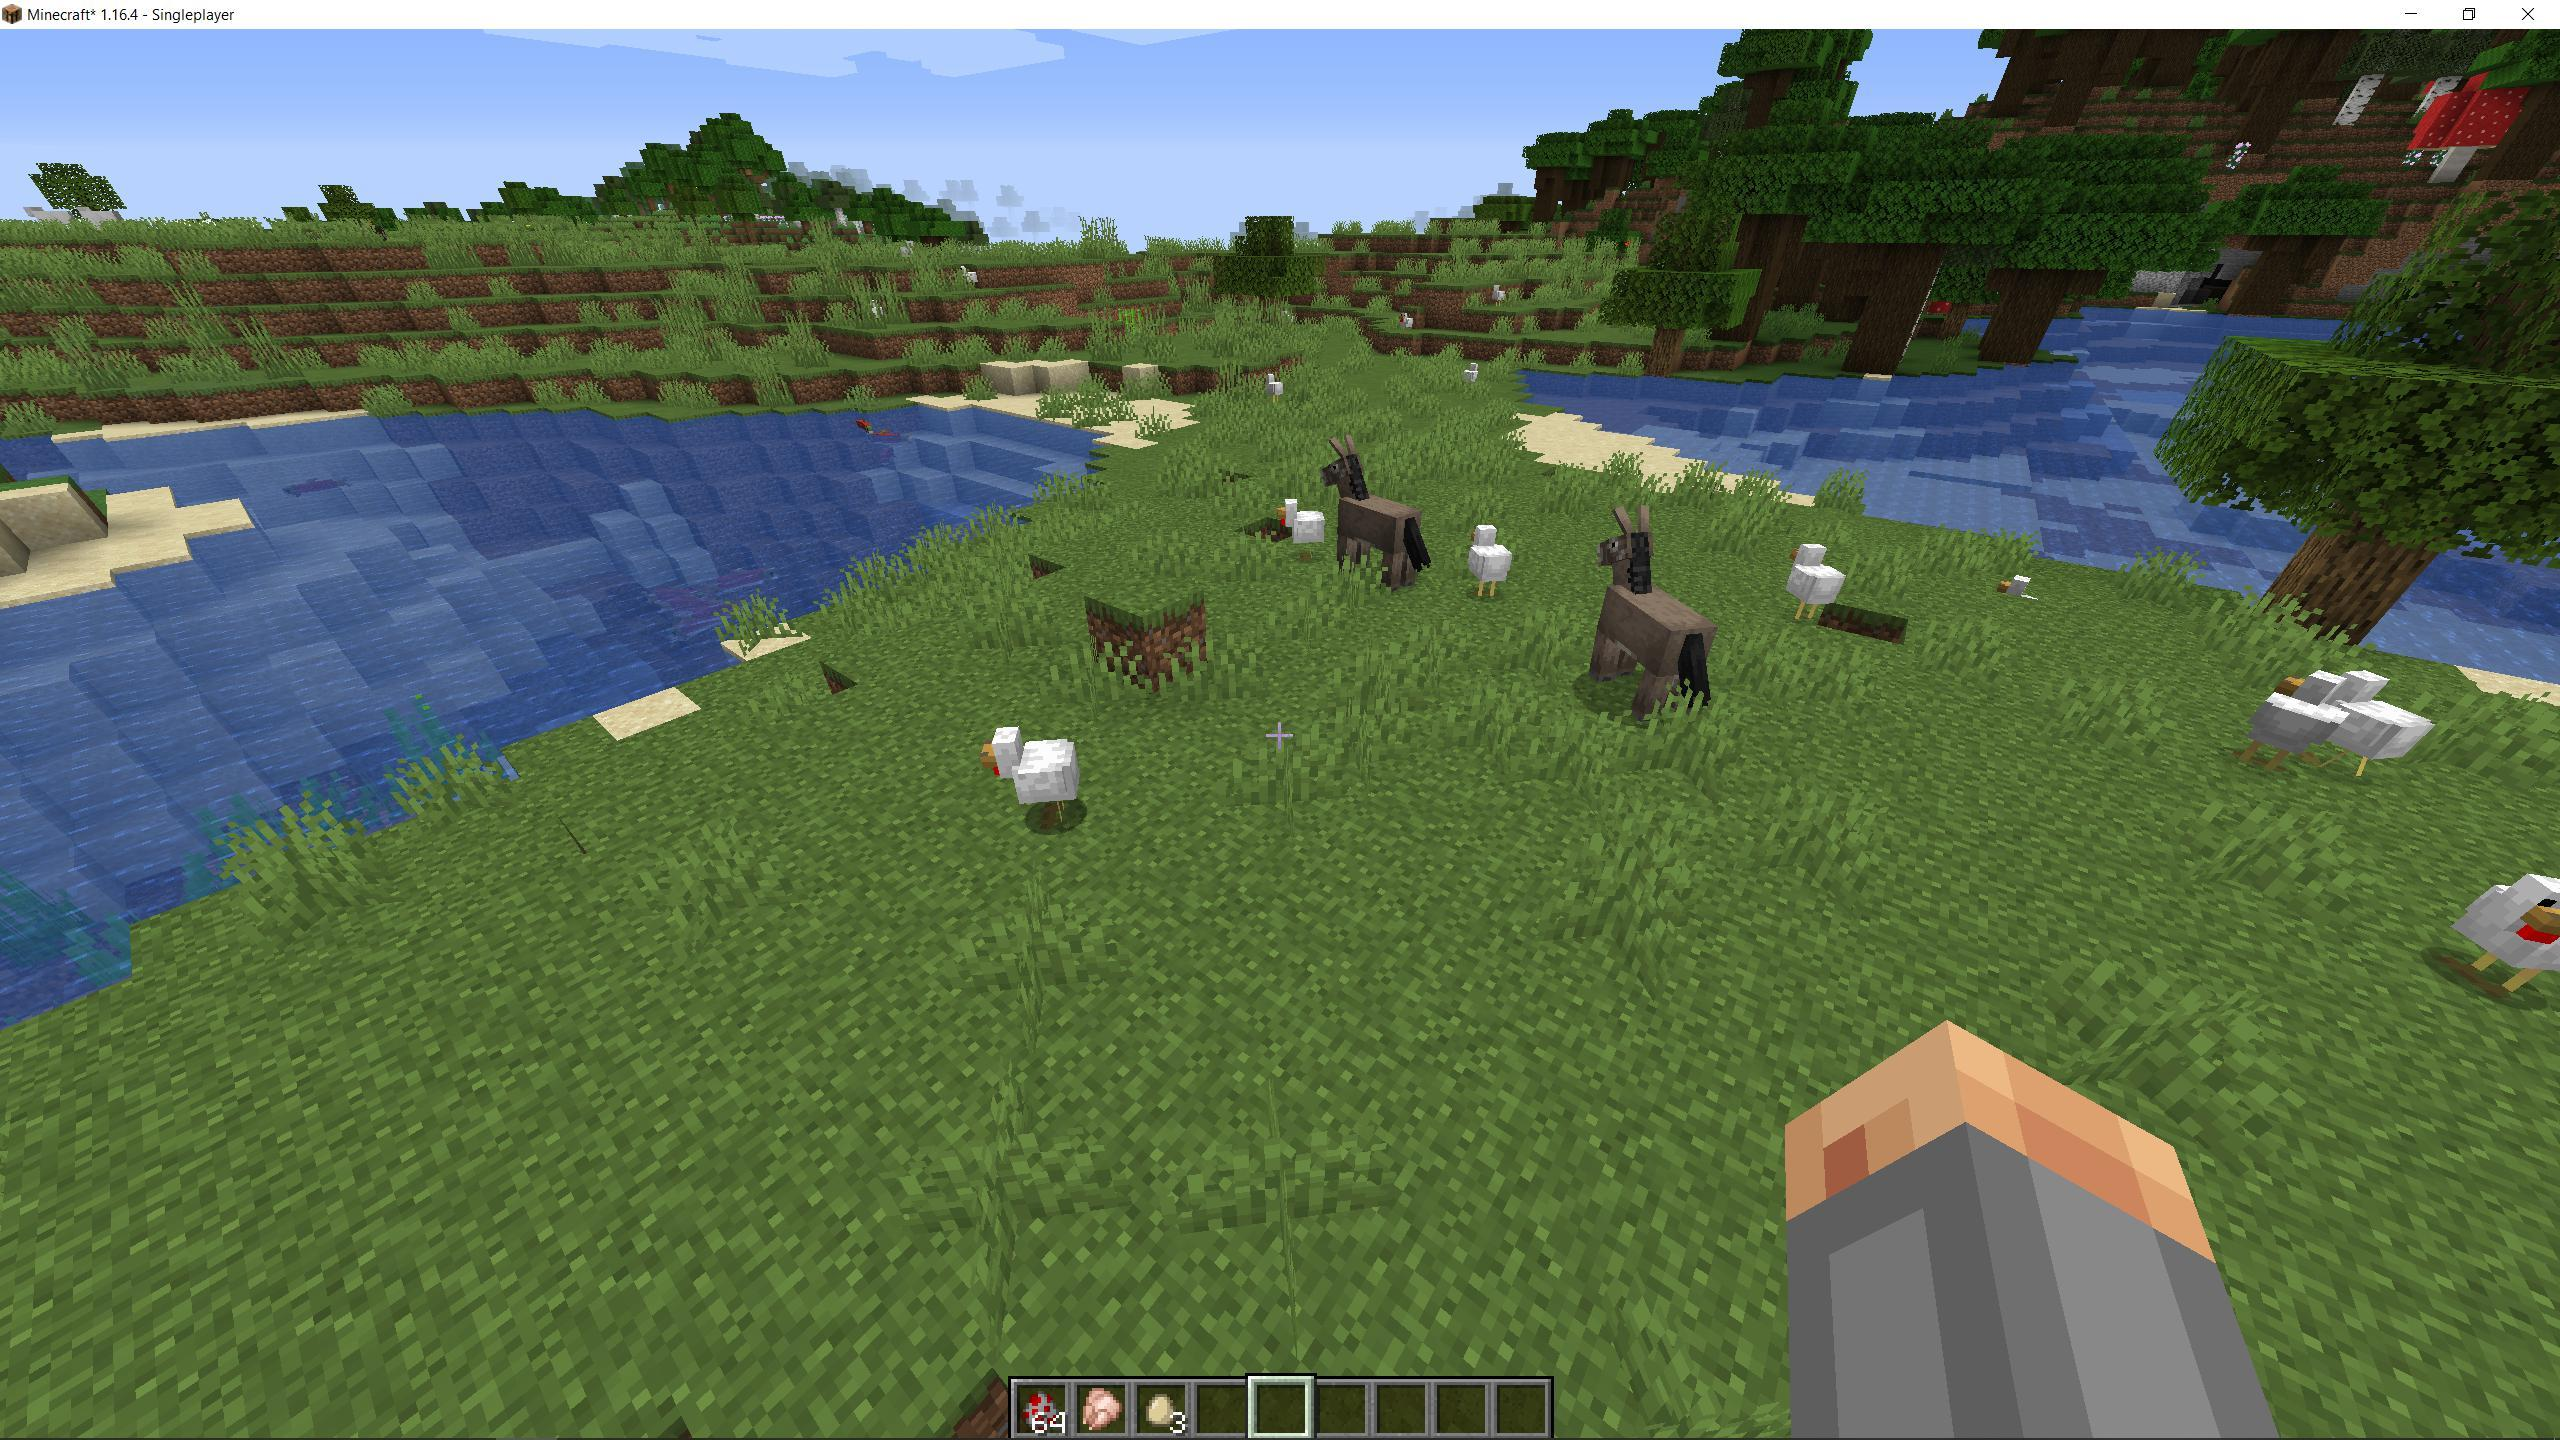chicken: (2442, 856, 2560, 999), (2244, 665, 2344, 786), (978, 724, 1081, 826), (2338, 670, 2439, 775), (1778, 540, 1843, 629), (1458, 520, 1521, 601), (1271, 491, 1326, 554)
